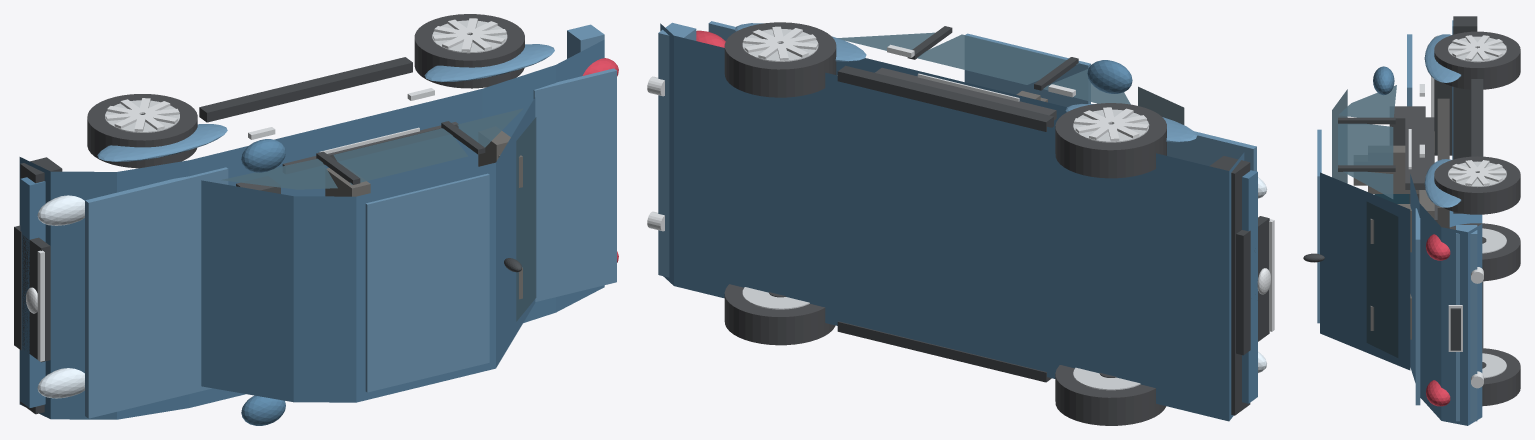
The model's file is hyundai_i30.glb.
3 views of the same model, side by side, from view 1: azimuth 30°, elevation 25°; view 2: azimuth 150°, elevation 25°; view 3: azimuth 270°, elevation 25° (orthographic). The views are drawn at different scales.
Parts seen in each view (by area): view 1: Roof and cabin, Hood panel, Main hatchback body, Roof surface, Rear hatch panel, Tire 1.18 1, Tire -1.28 1, Side window 1 1, Side skirt 1, Front bumper painted insert, Rear hatch glass, Front grille (+16 smaller); view 2: Main hatchback body, Tire 1.18 1, Tire -1.28 1, Tire 1.18 -1, Tire -1.28 -1, Side window 1 1, Side skirt 1, Rear bumper, Front bumper painted insert, Front bumper, Side skirt -1, Hood panel (+16 smaller); view 3: Roof and cabin, Main hatchback body, Rear hatch glass, Tire 1.18 1, Tire -1.28 1, Side window 1 1, Rear bumper, Interior door card 1, Front bumper, Tire -1.28 -1, Tire 1.18 -1, Rear hatch panel (+25 smaller).
Boxes of the visible parts, x1,y1,x2,y2 form: Roof and cabin: (201, 97, 535, 402); Hood panel: (85, 167, 228, 418); Main hatchback body: (19, 39, 604, 419); Roof surface: (365, 173, 489, 392); Rear hatch panel: (533, 68, 616, 301); Tire 1.18 1: (414, 14, 524, 88); Tire -1.28 1: (87, 94, 197, 168); Side window 1 1: (333, 128, 467, 184); Side skirt 1: (199, 57, 412, 122); Front bumper painted insert: (20, 177, 45, 407); Rear hatch glass: (516, 117, 536, 321); Front grille: (22, 235, 50, 362); Main hatchback body: (660, 23, 1244, 421); Tire 1.18 1: (724, 22, 836, 97); Tire -1.28 1: (1055, 103, 1166, 178); Tire 1.18 -1: (724, 284, 835, 345); Tire -1.28 -1: (1055, 365, 1165, 425); Side window 1 1: (917, 34, 1079, 84); Side skirt 1: (837, 65, 1053, 131); Rear bumper: (658, 22, 696, 277); Front bumper painted insert: (1242, 170, 1257, 403); Front bumper: (1209, 156, 1250, 415); Side skirt -1: (837, 321, 1051, 382); Hood panel: (1167, 131, 1256, 171); Roof and cabin: (1320, 172, 1410, 370); Main hatchback body: (1410, 174, 1482, 425); Rear hatch glass: (1366, 201, 1398, 357); Tire 1.18 1: (1434, 156, 1520, 214); Tire -1.28 1: (1434, 31, 1520, 89); Side window 1 1: (1338, 123, 1393, 165); Rear bumper: (1456, 225, 1477, 421); Interior door card 1: (1405, 117, 1434, 189); Front bumper: (1453, 16, 1477, 213); Tire -1.28 -1: (1449, 223, 1520, 281); Tire 1.18 -1: (1482, 348, 1520, 406); Rear hatch panel: (1415, 208, 1420, 405).
Bounding box in the file's own units: 4.44 × 2.04 × 1.81.
